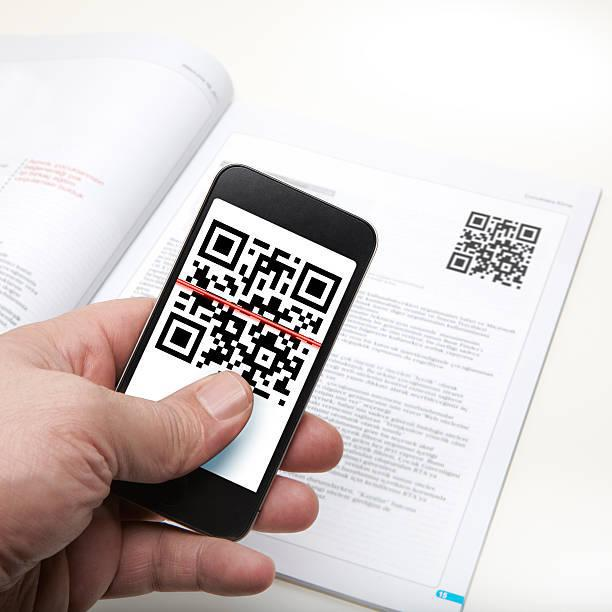Finder pattern: (287, 261, 346, 317), (153, 310, 212, 365), (196, 220, 251, 272), (443, 249, 475, 277), (462, 208, 491, 234), (515, 223, 543, 246)
